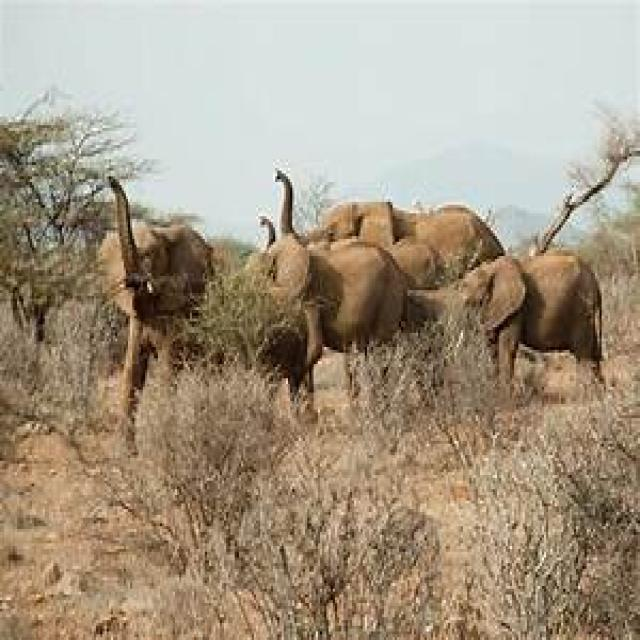elephant: (111, 176, 211, 455), (410, 253, 602, 367)
